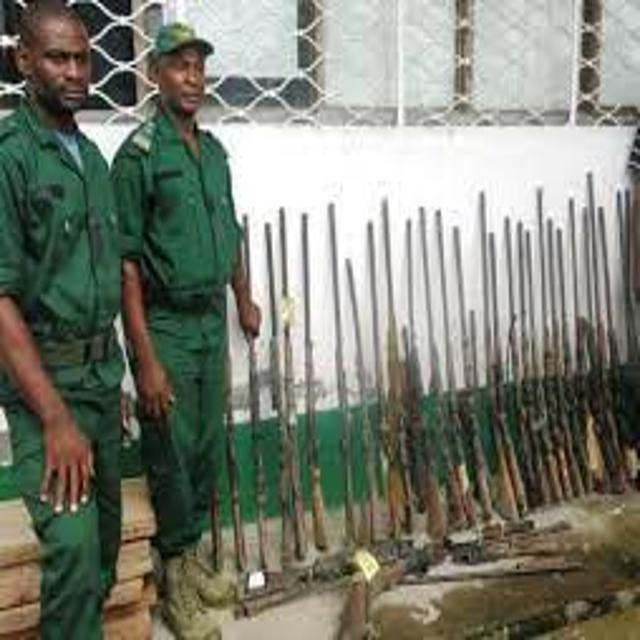gun: (348, 178, 411, 584), (314, 173, 375, 576), (468, 173, 531, 540), (228, 197, 286, 593), (428, 184, 488, 561), (275, 192, 331, 581), (395, 191, 450, 561), (206, 189, 256, 590), (529, 163, 579, 523), (497, 188, 546, 526), (560, 158, 606, 516), (575, 151, 619, 521), (602, 149, 640, 507)
ranger: (83, 12, 305, 640), (2, 1, 168, 640)
